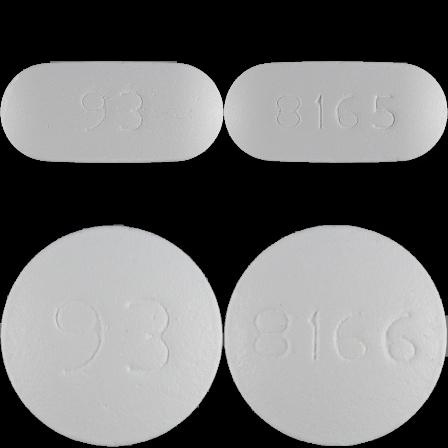0093-8165: (0, 0, 224, 224)
